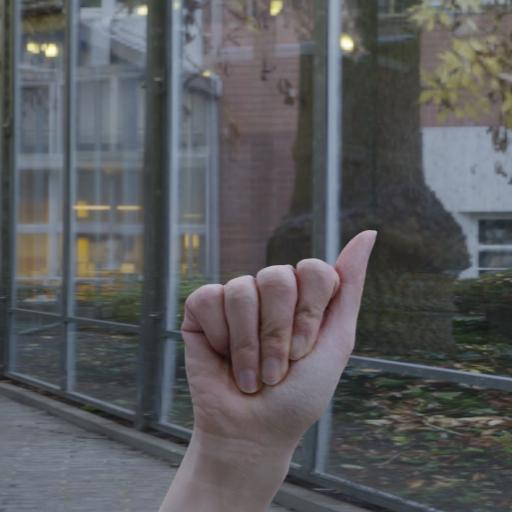A: (176, 224, 379, 435)
